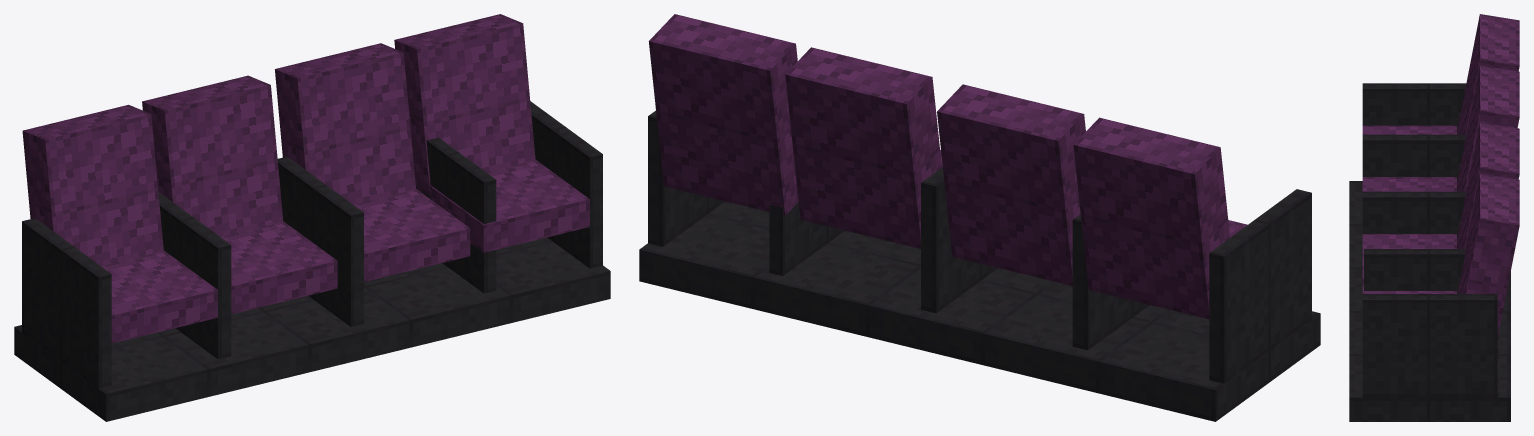
Rendered from cinemaSeats_1.glb.
3 views of the same model, side by side, from view 1: azimuth 30°, elevation 25°; view 2: azimuth 150°, elevation 25°; view 3: azimuth 270°, elevation 25° (orthographic). The views are drawn at different scales.
Visible parts, largest first — view 1: cinemaSeats_1; view 2: cinemaSeats_1; view 3: cinemaSeats_1.
Part boxes in pixels (x1,y1,x2,y2): cinemaSeats_1: [14, 14, 610, 421]; cinemaSeats_1: [639, 14, 1320, 421]; cinemaSeats_1: [1349, 14, 1519, 421].
Bounding box in the file's own units: 2.38 × 1.01 × 0.7904.
1 material, 1 textured.
